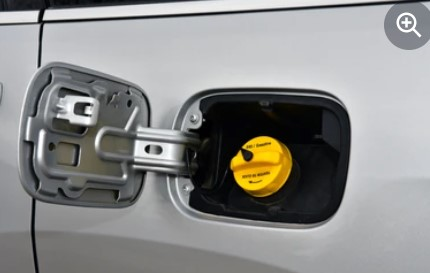open: (163, 77, 355, 234)
